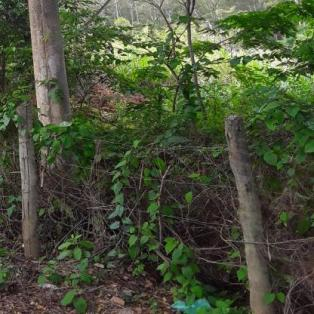Poste: (0, 0, 81, 127)
